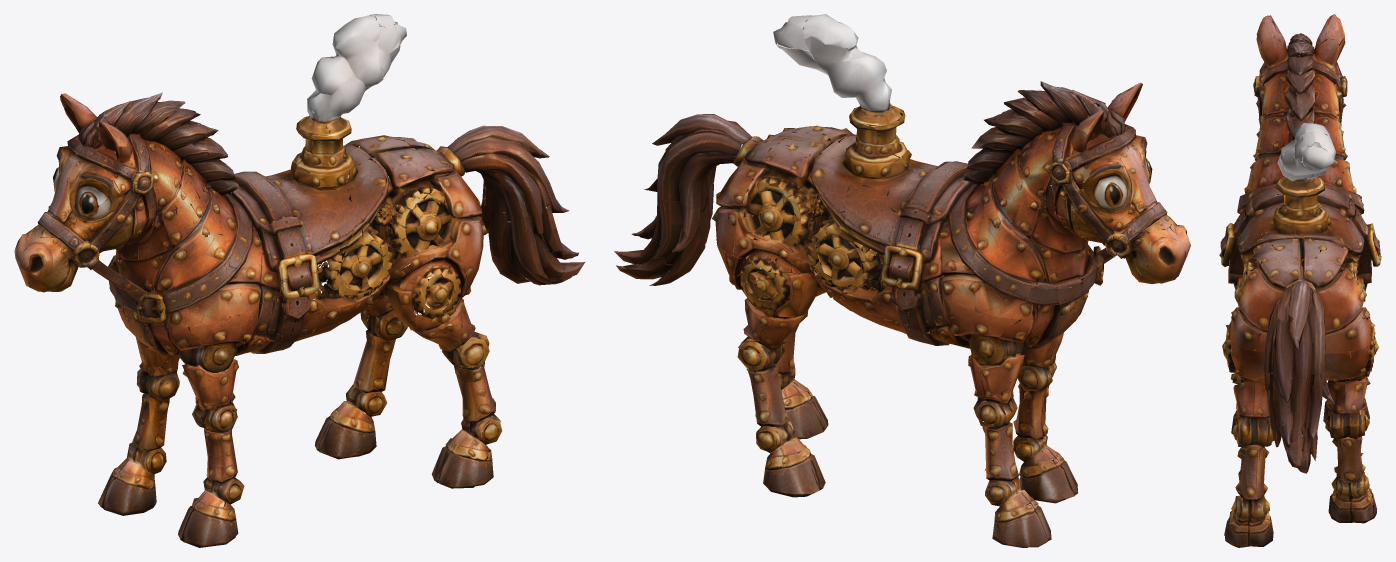
3 views of the same model, side by side, from view 1: azimuth 30°, elevation 25°; view 2: azimuth 150°, elevation 25°; view 3: azimuth 270°, elevation 25° (orthographic). The views are drawn at different scales.
Visible parts, largest first — view 1: tripo_node_f03bfb64-7fce-4d5c-b9a8-69e2f31a1bfa; view 2: tripo_node_f03bfb64-7fce-4d5c-b9a8-69e2f31a1bfa; view 3: tripo_node_f03bfb64-7fce-4d5c-b9a8-69e2f31a1bfa.
Boxes of the visible parts, left/top/right/bottom form: tripo_node_f03bfb64-7fce-4d5c-b9a8-69e2f31a1bfa: left=14, top=14, right=585, bottom=547; tripo_node_f03bfb64-7fce-4d5c-b9a8-69e2f31a1bfa: left=614, top=14, right=1190, bottom=547; tripo_node_f03bfb64-7fce-4d5c-b9a8-69e2f31a1bfa: left=1219, top=14, right=1381, bottom=547.
Bounding box in the file's own units: 0.9814 × 0.7439 × 0.2819.
1 material, 1 textured.
